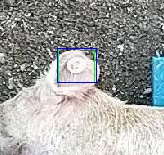text: (58, 48, 94, 82)
